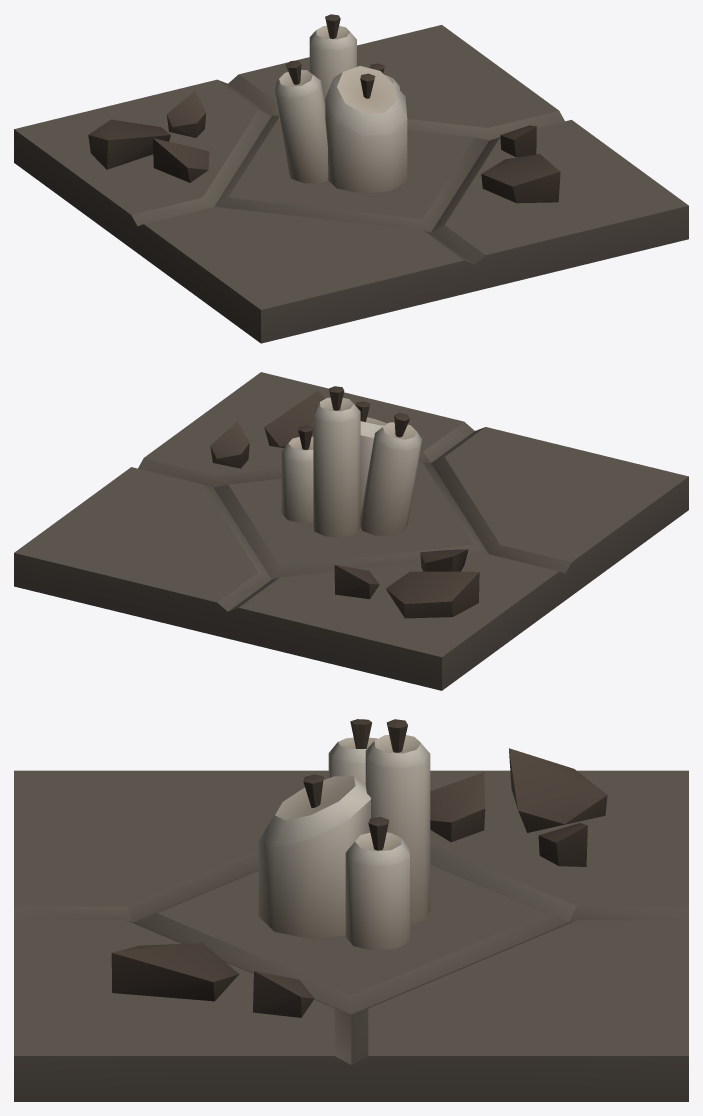
Rendered from floor-tile-small-decorated.glb.
3 views of the same model, one above another, from view 1: azimuth 30°, elevation 25°; view 2: azimuth 150°, elevation 25°; view 3: azimuth 270°, elevation 25° (orthographic). The views are drawn at different scales.
Visible parts, largest first — view 1: floor-tile-small-decorated; view 2: floor-tile-small-decorated; view 3: floor-tile-small-decorated.
Boxes of the visible parts, x1,y1,x2,y2 form: floor-tile-small-decorated: (14,14,688,343); floor-tile-small-decorated: (14,372,688,690); floor-tile-small-decorated: (14,719,688,1101).
Bounding box in the file's own units: 1.5 × 0.5798 × 1.5.
